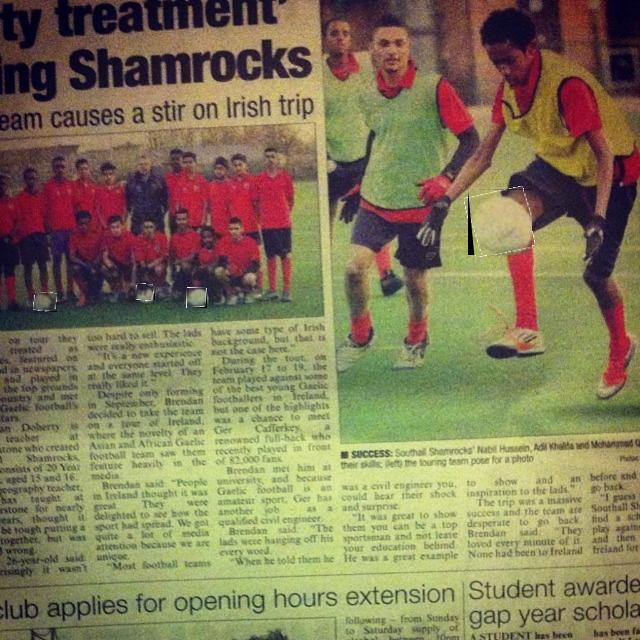Football: (468, 189, 532, 255), (33, 292, 57, 312), (187, 288, 207, 308), (135, 284, 155, 300)
